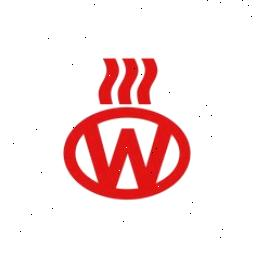w: (83, 122, 175, 192)
